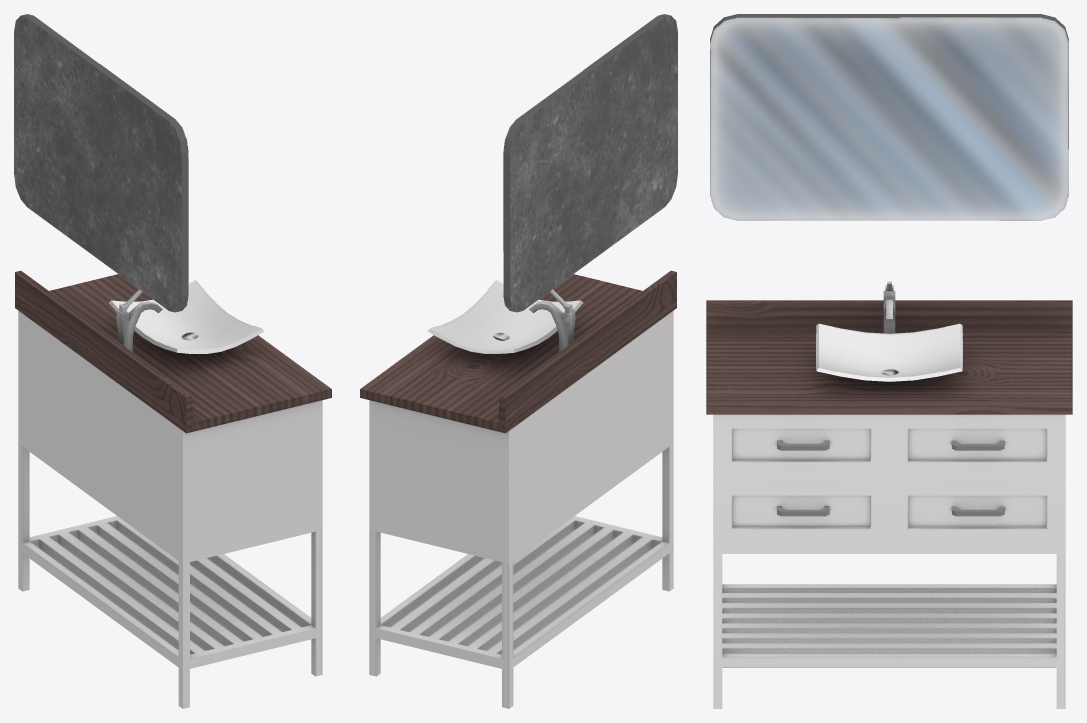
The model's file is sink.glb.
3 renders of one model, left to right at view 1: azimuth 30°, elevation 25°; view 2: azimuth 150°, elevation 25°; view 3: azimuth 270°, elevation 25°, orthographic. The views are drawn at different scales.
Visible parts, largest first — view 1: Object_68; view 2: Object_68; view 3: Object_68.
Part boxes in pixels (x1=…): Object_68: x1=14, y1=14, x2=331, y2=708; Object_68: x1=360, y1=14, x2=677, y2=708; Object_68: x1=706, y1=14, x2=1072, y2=708.
Size of the model in its own units: 1.02 by 3.82 by 2.04.
1 material, 1 textured.
